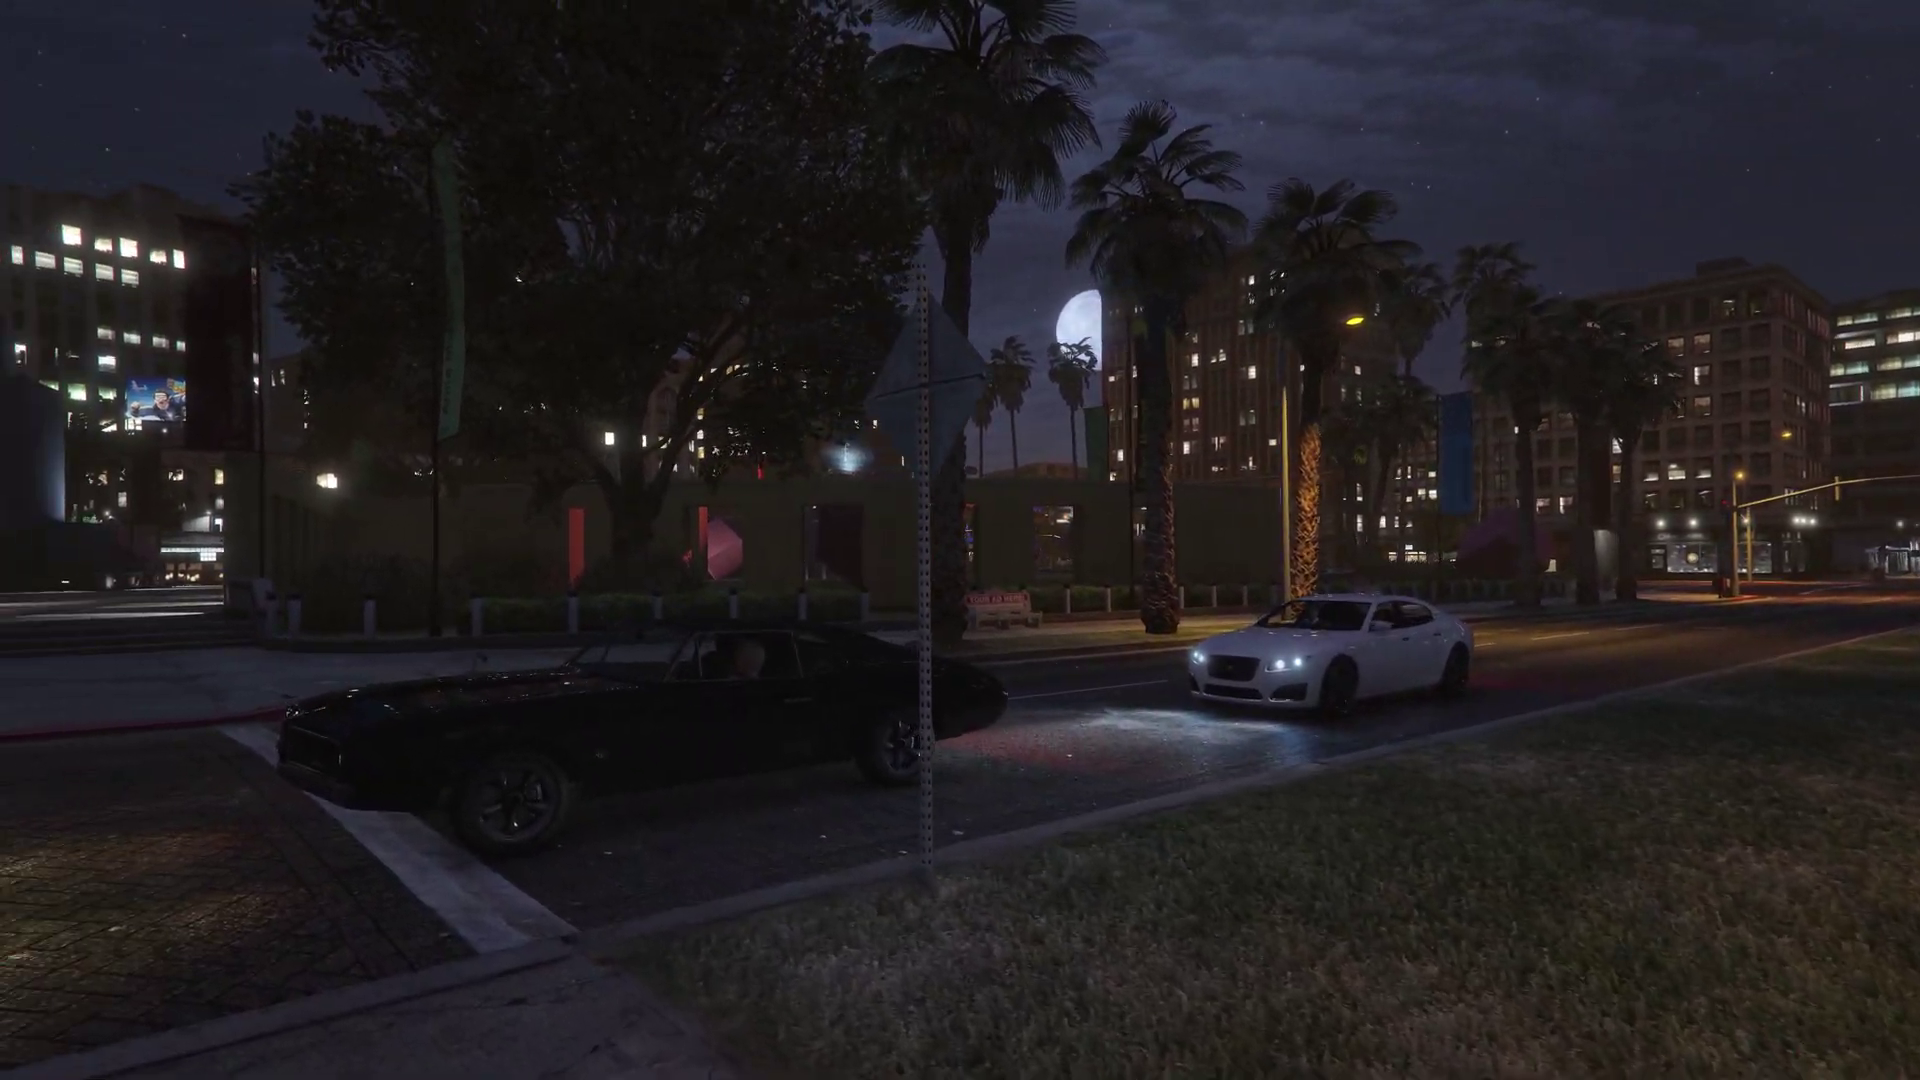car: (281, 621, 1009, 847), (1188, 596, 1474, 717)
